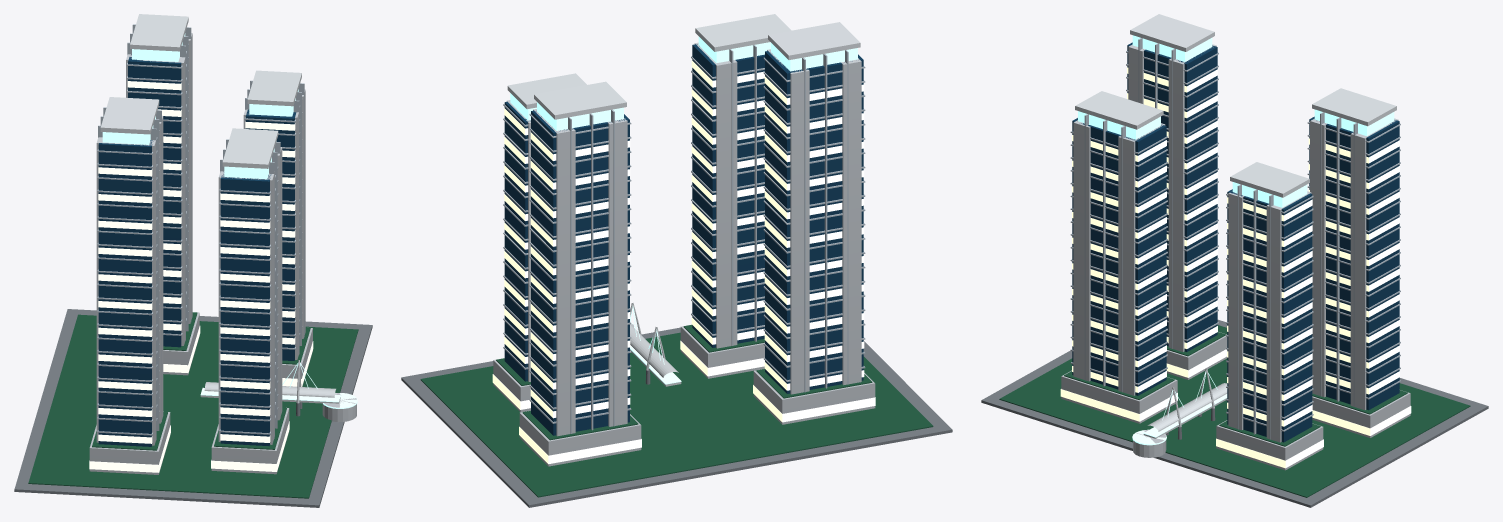
Rendered from vinhomes_central_park_cluster.glb.
3 renders of one model, left to right at view 1: azimuth 30°, elevation 25°; view 2: azimuth 150°, elevation 25°; view 3: azimuth 270°, elevation 25°, orthographic. The views are drawn at different scales.
Parts seen in each view (by area): view 1: vinhomes_central_park_cluster; view 2: vinhomes_central_park_cluster; view 3: vinhomes_central_park_cluster.
Boxes of the visible parts, x1,y1,x2,y2 form: vinhomes_central_park_cluster: [14, 14, 372, 507]; vinhomes_central_park_cluster: [401, 14, 952, 507]; vinhomes_central_park_cluster: [981, 14, 1488, 507].
Bounding box in the file's own units: 246 × 185 × 258.
